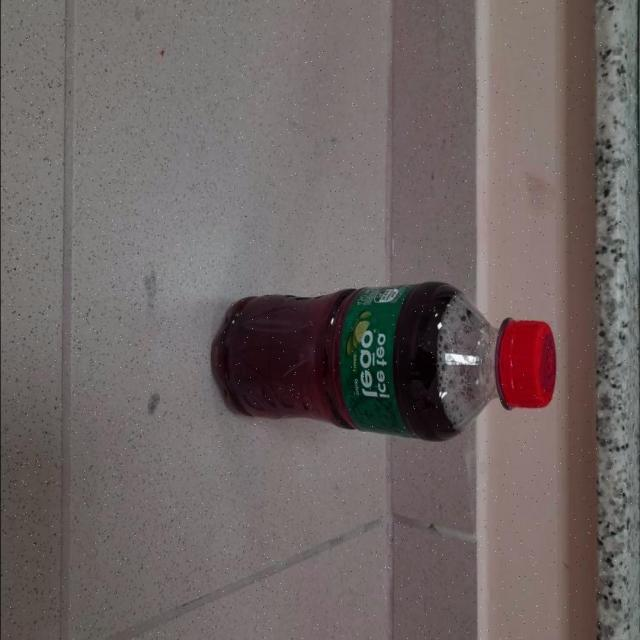IceTea: (209, 280, 555, 442)
